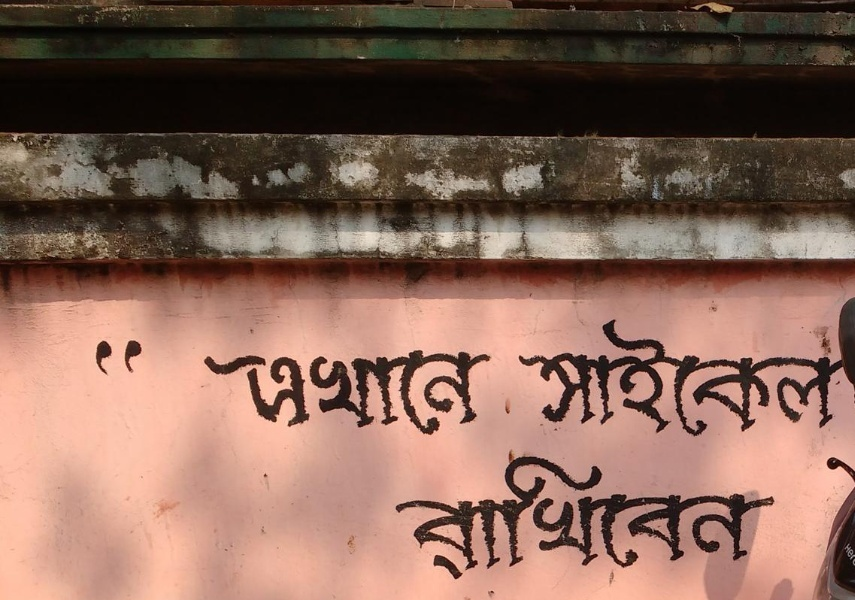text: (401, 452, 416, 582), (417, 452, 432, 582), (433, 452, 448, 582), (449, 452, 464, 582), (465, 452, 480, 582), (481, 452, 496, 582), (497, 452, 512, 582), (513, 452, 528, 582), (529, 452, 544, 582), (545, 452, 560, 582), (561, 452, 576, 582), (577, 452, 592, 582), (593, 452, 608, 582), (609, 452, 624, 582), (625, 452, 640, 582), (641, 452, 656, 582), (657, 452, 672, 582), (673, 452, 688, 582), (689, 452, 704, 582), (705, 452, 720, 582), (721, 452, 736, 582), (737, 452, 752, 582), (753, 452, 768, 582), (529, 319, 544, 439), (545, 319, 560, 439), (561, 319, 576, 439), (577, 319, 592, 439), (593, 319, 608, 439), (609, 319, 624, 439), (625, 319, 640, 439), (641, 319, 656, 439), (657, 319, 672, 439), (673, 319, 688, 439), (689, 319, 704, 439), (705, 319, 720, 439), (721, 319, 736, 439), (737, 319, 752, 439), (753, 319, 768, 439), (769, 319, 784, 439), (785, 319, 800, 439), (801, 319, 816, 439), (817, 319, 832, 439), (516, 319, 528, 439), (389, 452, 400, 582), (769, 452, 780, 582), (209, 349, 224, 438), (225, 349, 240, 438), (241, 349, 256, 438), (257, 349, 272, 438), (273, 349, 288, 438), (289, 349, 304, 438), (305, 349, 320, 438), (321, 349, 336, 438), (337, 349, 352, 438), (353, 349, 368, 438), (369, 349, 384, 438), (385, 349, 400, 438), (401, 349, 416, 438), (417, 349, 432, 438), (433, 349, 448, 438), (449, 349, 464, 438), (465, 349, 480, 438), (833, 319, 844, 439), (481, 349, 494, 438), (97, 339, 112, 376), (113, 339, 128, 376), (129, 339, 142, 376), (204, 349, 208, 438), (849, 540, 855, 568), (95, 339, 96, 376)
